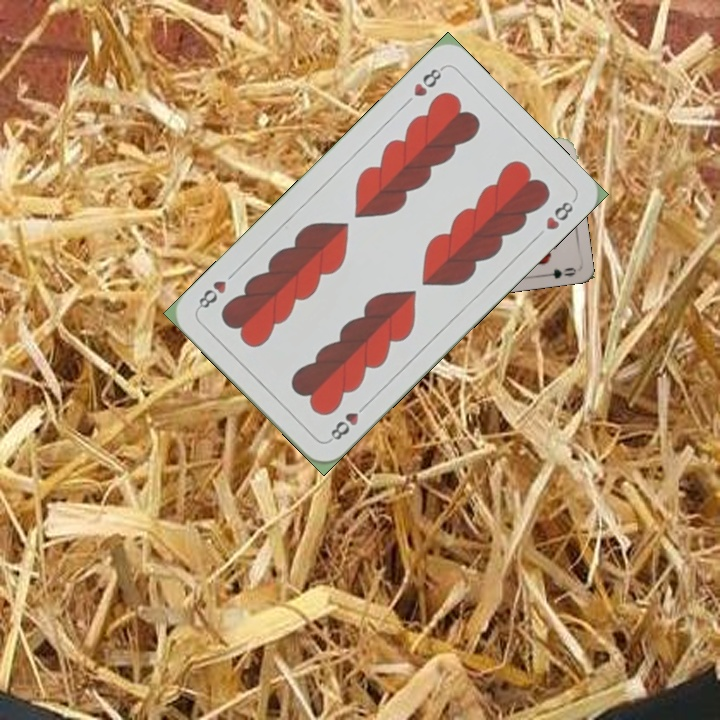H8: (324, 398, 371, 444), (409, 62, 446, 99)
